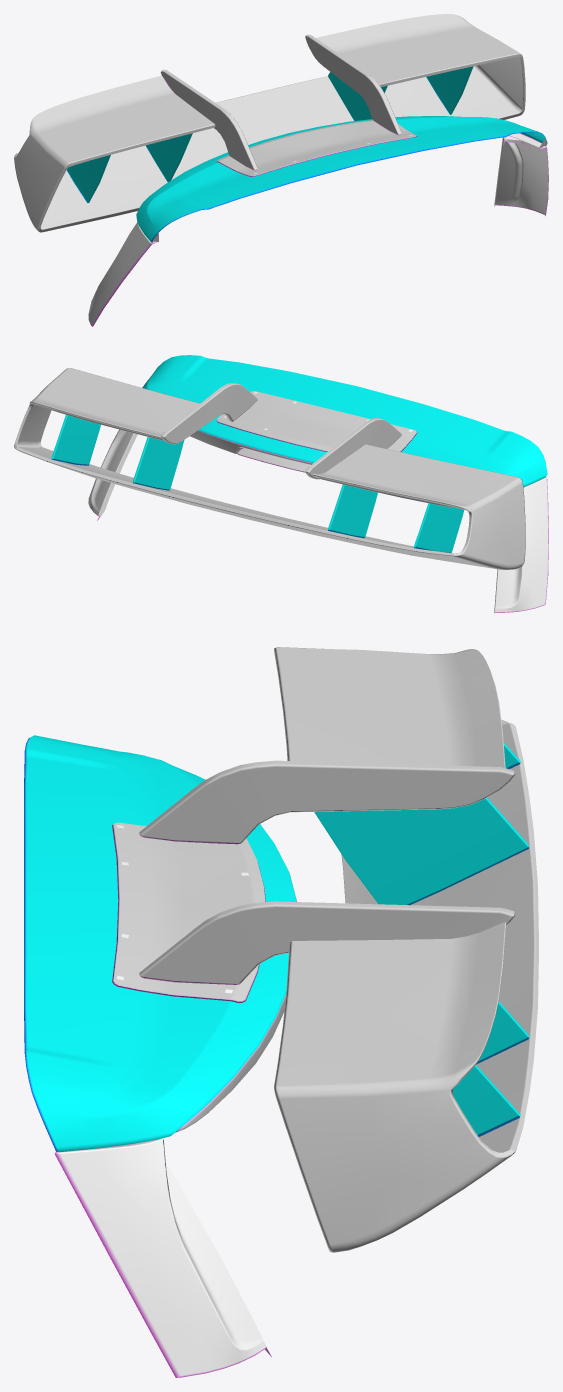
File: Car_Mini_CountrymanJCW_2017_Spoiler_SetB.fbx
3 views of the same model, one above another, from view 1: azimuth 30°, elevation 25°; view 2: azimuth 150°, elevation 25°; view 3: azimuth 270°, elevation 25° (orthographic). The views are drawn at different scales.
Parts seen in each view (by area): view 1: Spoiler 6; view 2: Spoiler 6; view 3: Spoiler 6.
Part boxes in pixels (x1=…): Spoiler 6: x1=14, y1=14, x2=548, y2=326; Spoiler 6: x1=14, y1=355, x2=548, y2=612; Spoiler 6: x1=24, y1=647, x2=538, y2=1377.
Bounding box in the file's own units: 1.42 × 0.4615 × 0.6495.
